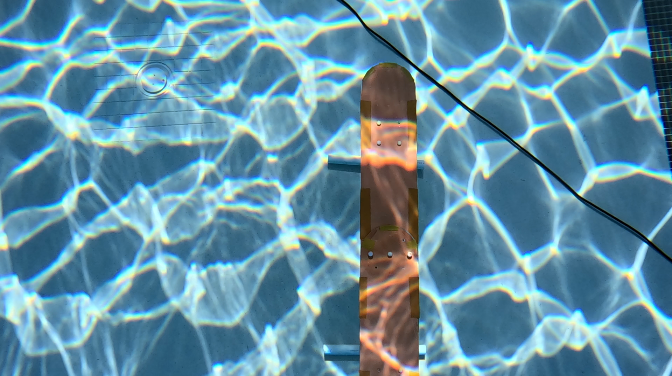pathmarker: (359, 61, 417, 375)
